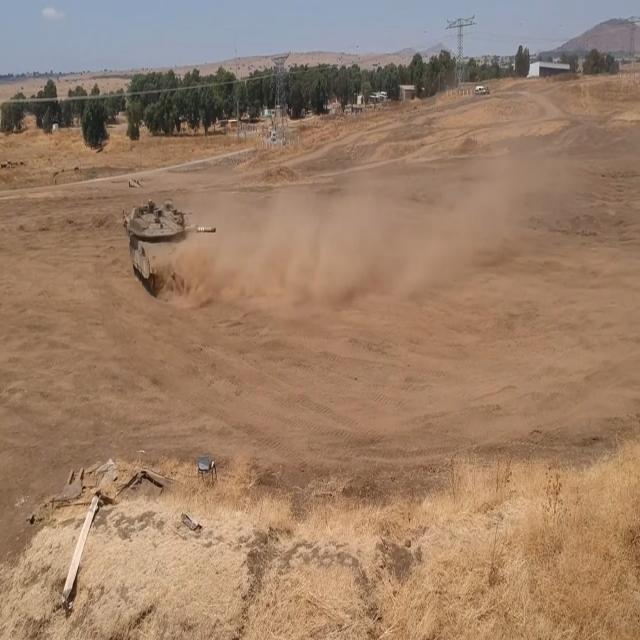tank: (120, 185, 223, 293)
